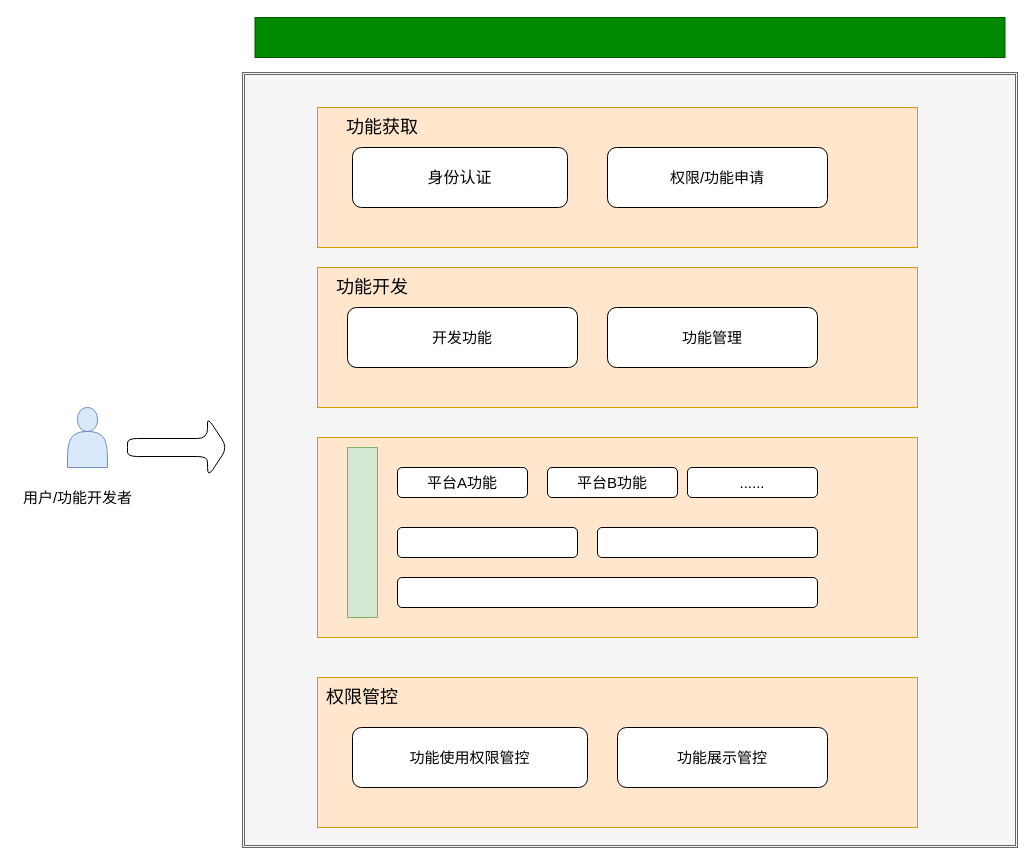
The diagram is 1035 pixels wide and 865 high, and some of its shapes have lost their labels. Here are the shapes that lost their labels. From the top down, the centre of each, then its label:
the point at 629,37: 基础电商工作台
the point at 362,532: 一站式快捷入口
the point at 487,542: 常用功能
the point at 707,542: 最近使用功能
the point at 607,592: 自定义功能
